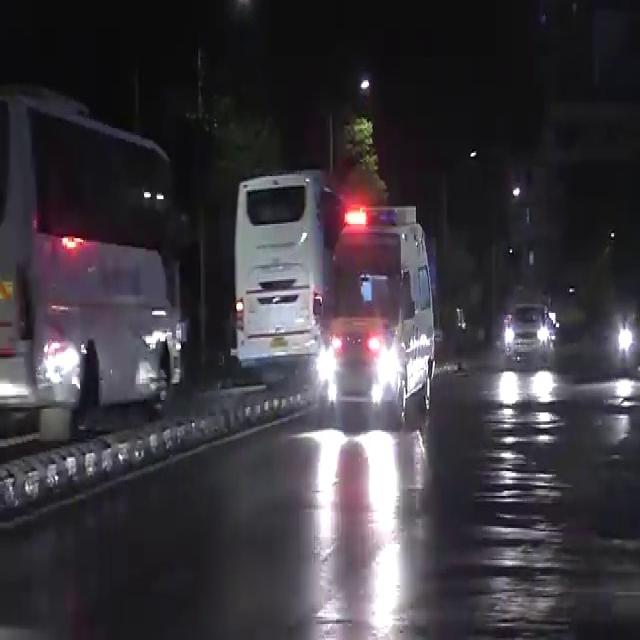ambulance: (308, 208, 452, 406)
